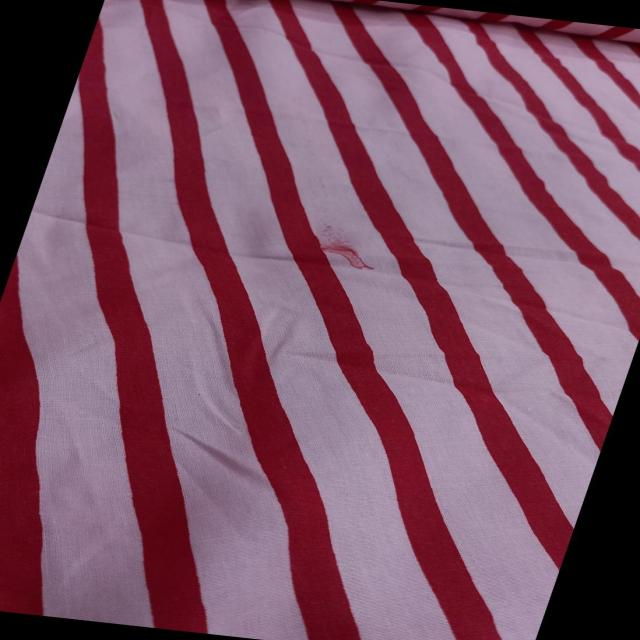color issues: (287, 217, 413, 290)
